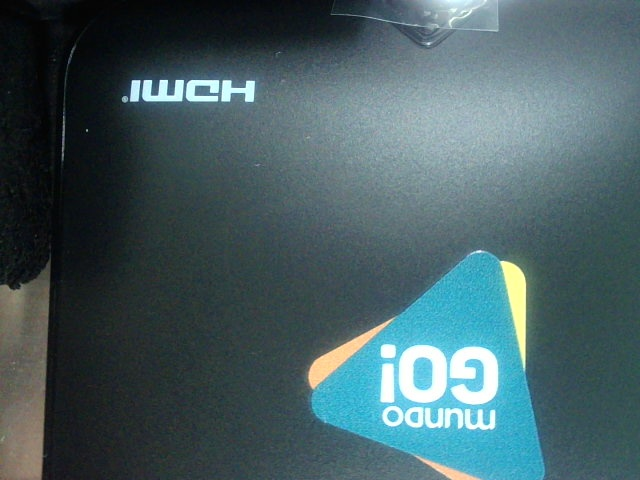AP_IPGMundoGO: (293, 240, 566, 477)
